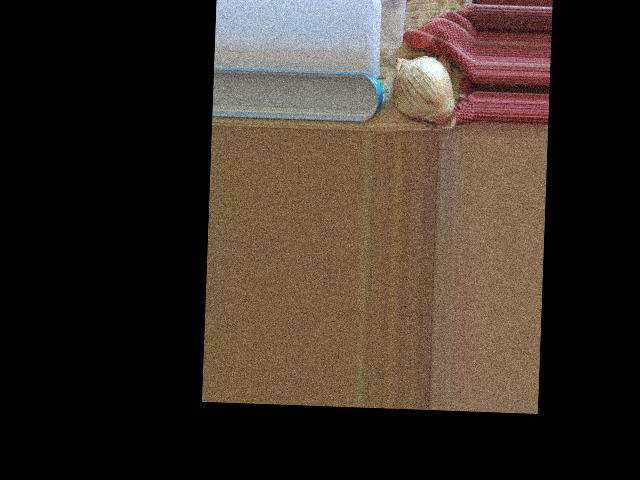onion: (388, 55, 458, 128)
